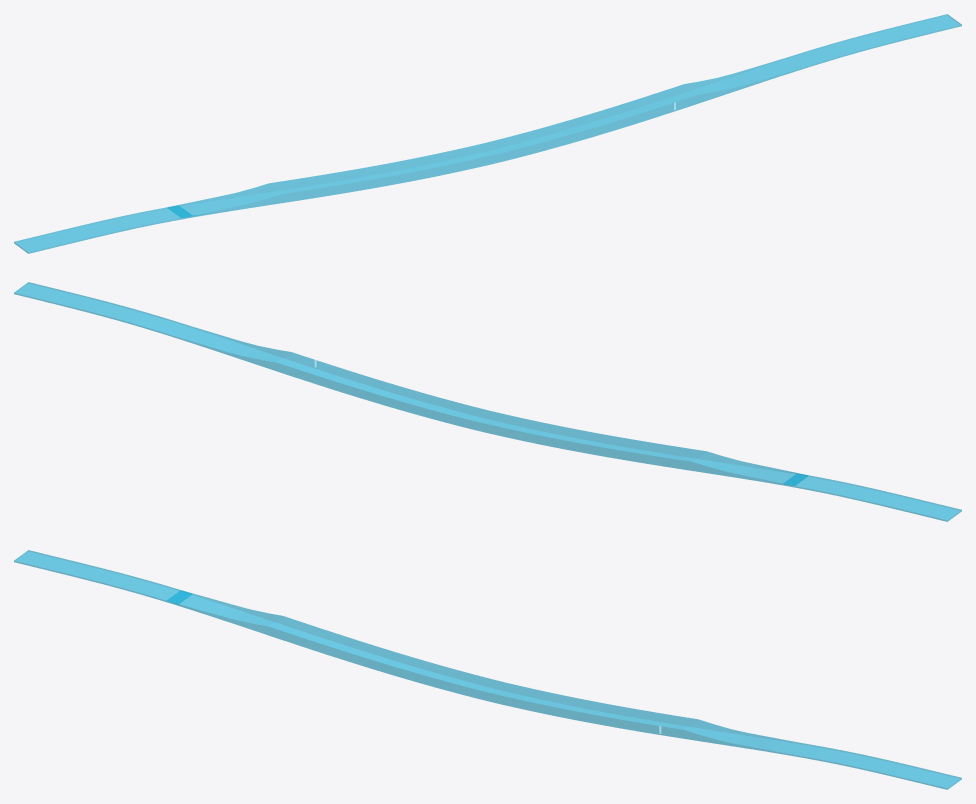
File: water.glb
3 renders of one model, top to bottom at view 1: azimuth 30°, elevation 25°; view 2: azimuth 150°, elevation 25°; view 3: azimuth 330°, elevation 25°, orthographic.
Parts seen in each view (by area): view 1: water; view 2: water; view 3: water.
Boxes of the visible parts, <box> form: water: <box>14,14,961,253</box>; water: <box>14,282,961,521</box>; water: <box>14,550,961,789</box>.
Size of the model in its own units: 689 by 17.66 by 18.54.
